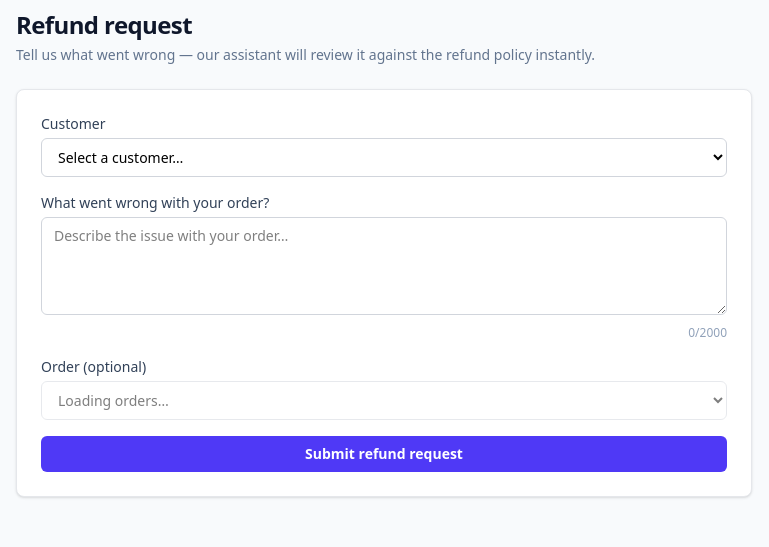
it: CustomerChat › shows an inline orders error when the orders fetch fails
Select "Alice Brown (alice@example.com)" in the dropdown labelled "Customer" at (384, 158), box x1=41 y1=138 x2=727 y2=177
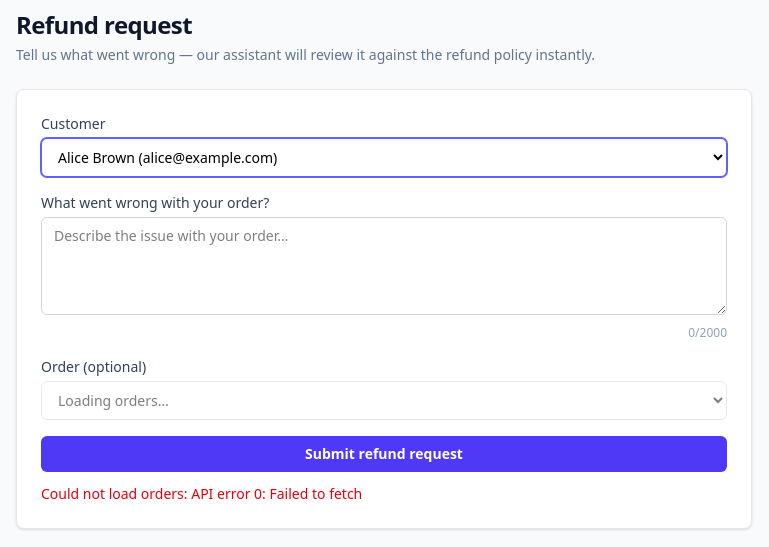
Now the message reads "Could not load orders: API error 0: Failed to fetch", box x1=41 y1=484 x2=362 y2=503
